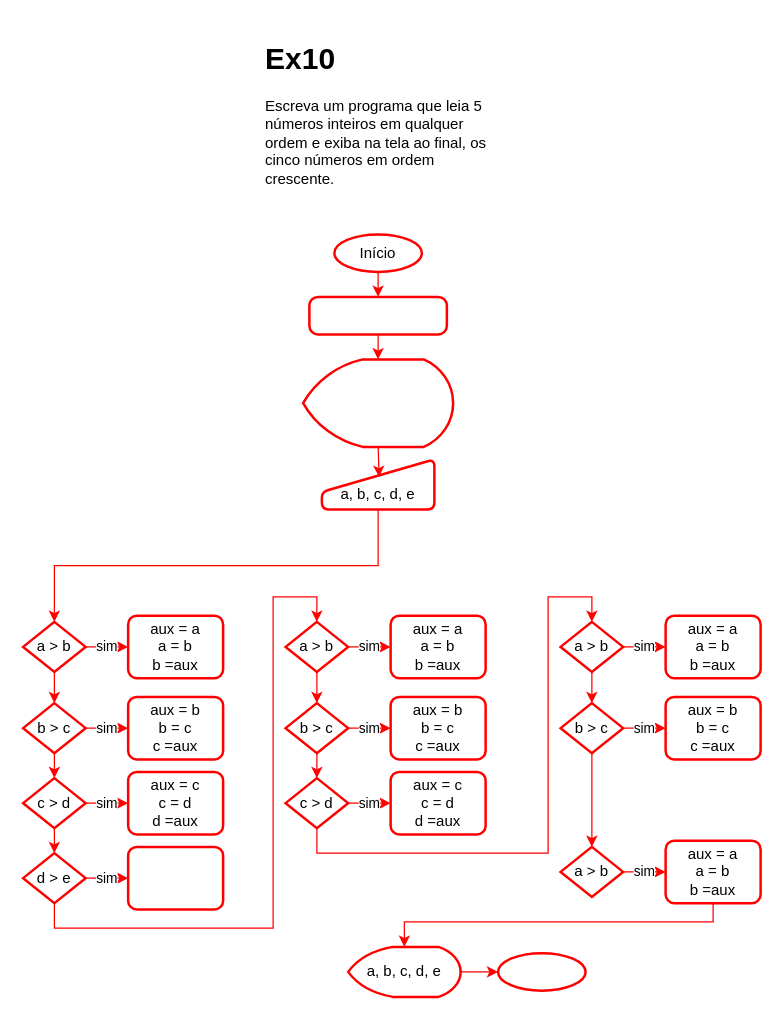
The diagram is 783 pixels wide and 1019 high, and some of its shapes have lost their labels. The shapes that lost their labels are listed below. From the top down, each one's centre as x and y in pixels, then its label:
[378,315]: a, b, c, d, e, aux
[377,403]: "Digite 5 números inteiros positivos"
[175,877]: aux = d d = e e =aux
[541,971]: Fim
